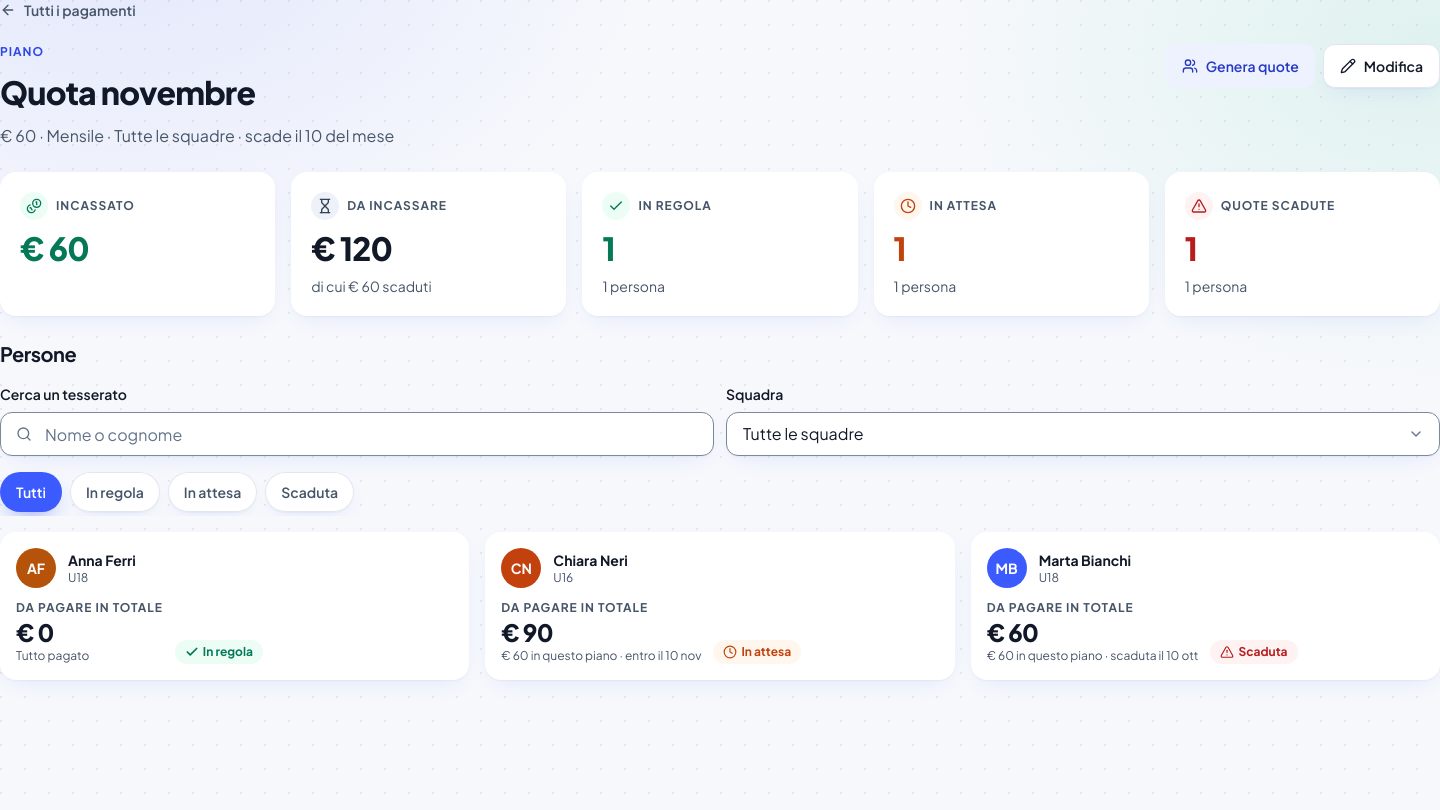
Scenario: PlanDetailPage: the fees of a person › shows the reminders sent for an unpaid fee and the action to register the payment
Click the button "Marta Bianchi" at (1007, 568), box [971,532,1439,680]
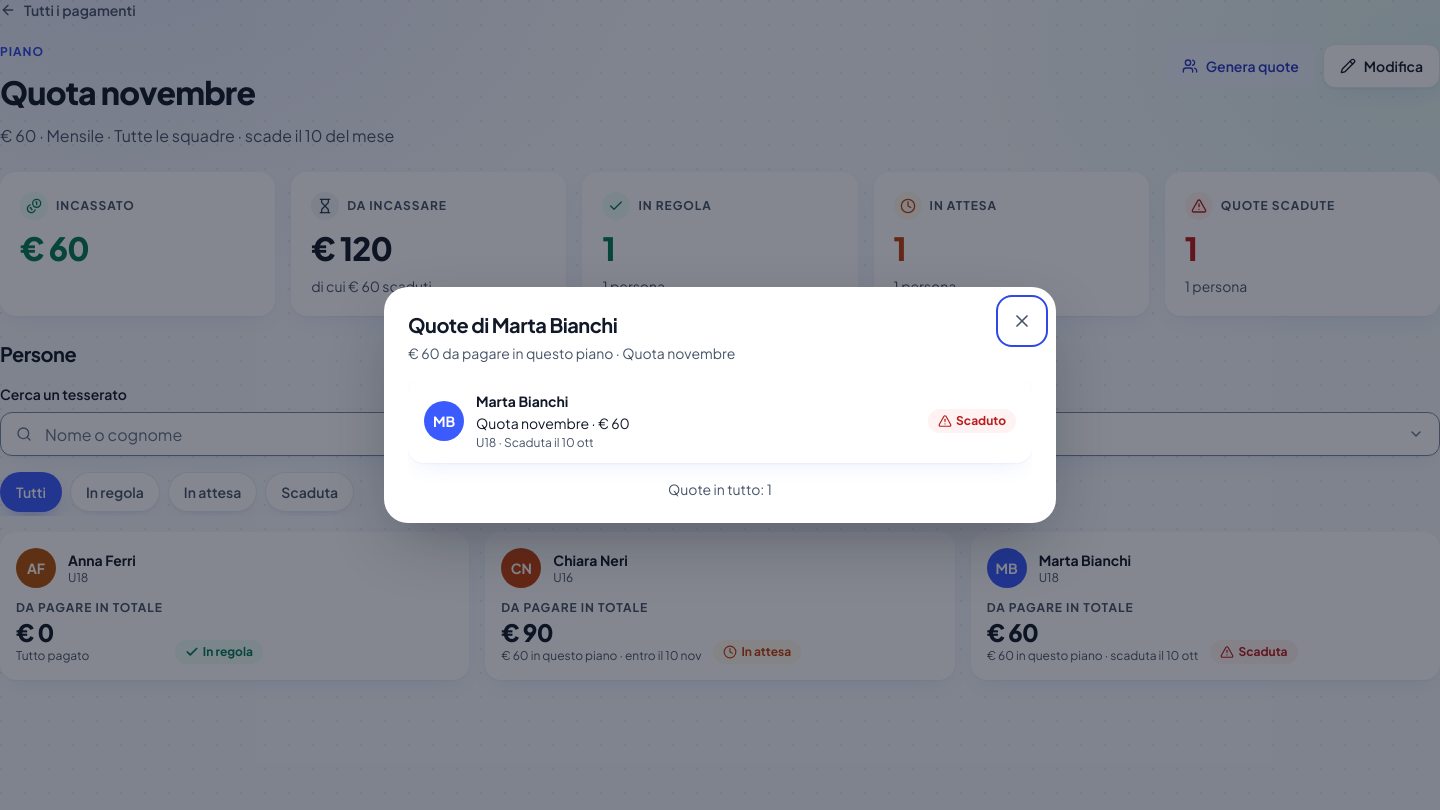
Click the button "Marta Bianchi" at (444, 421), box [408,379,1032,463]
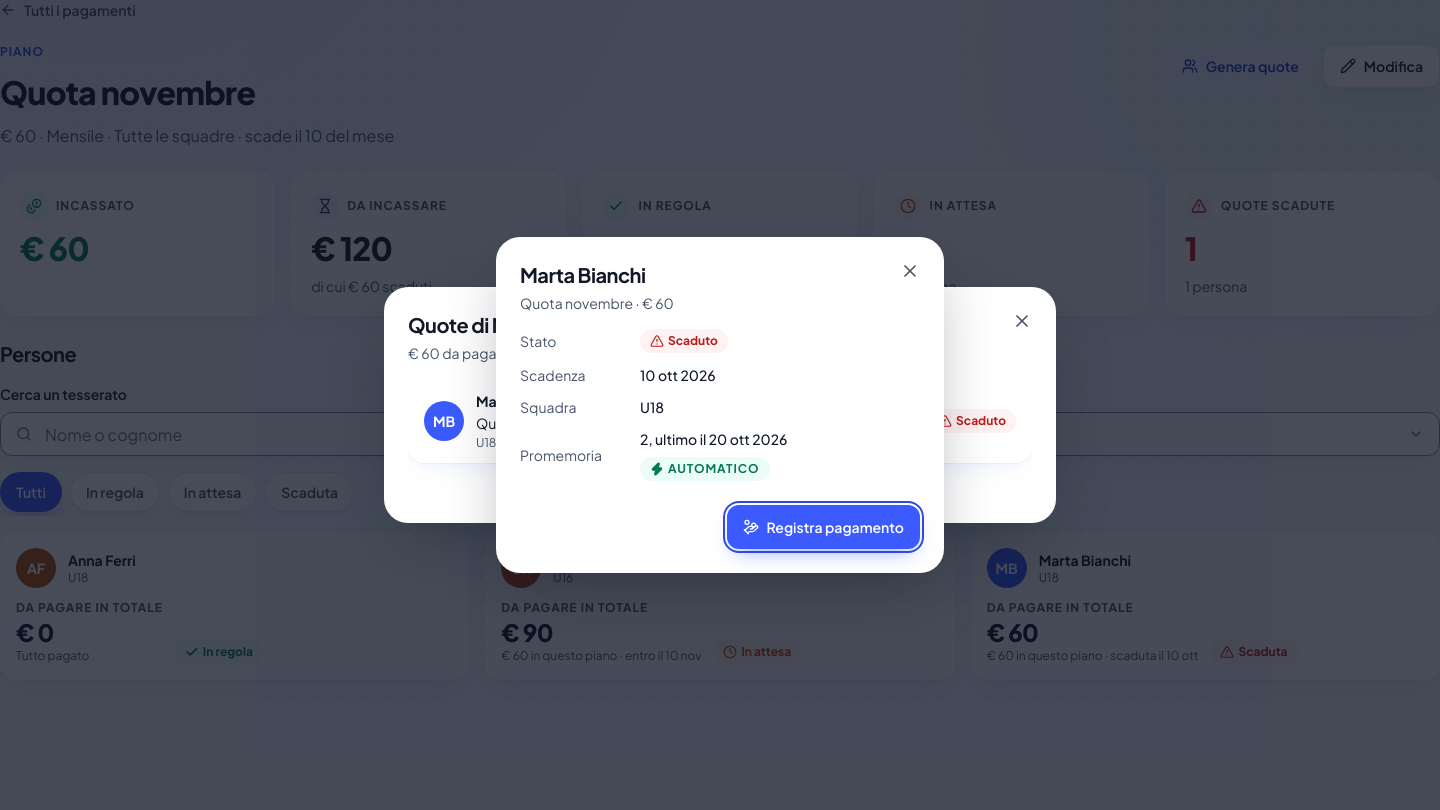
expect the button "Registra pagamento" is shown: met, box [727,505,920,549]
